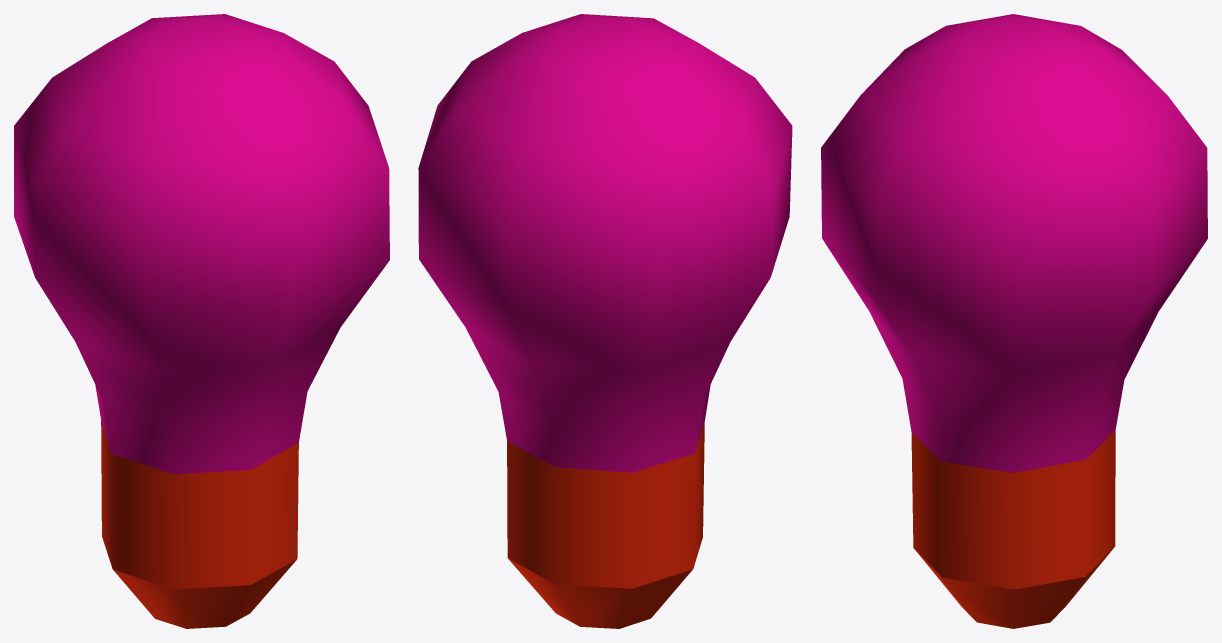
The model's file is SM_Lightbulb_01.fbx.
The picture shows the model from 3 angles, left to right: view 1: azimuth 30°, elevation 25°; view 2: azimuth 150°, elevation 25°; view 3: azimuth 270°, elevation 25°; orthographic projection.
Visible parts, largest first — view 1: lightbulb_low; view 2: lightbulb_low; view 3: lightbulb_low.
Part boxes in pixels (x1=…): lightbulb_low: x1=14, y1=14, x2=389, y2=628; lightbulb_low: x1=418, y1=14, x2=792, y2=628; lightbulb_low: x1=821, y1=14, x2=1207, y2=628.
Size of the model in its own units: 7.2 by 11.69 by 7.21.
